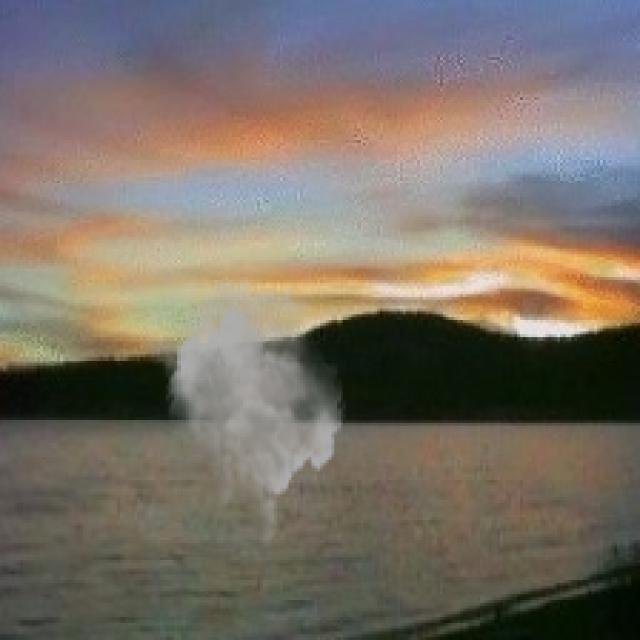Smoke: (140, 272, 346, 548)
